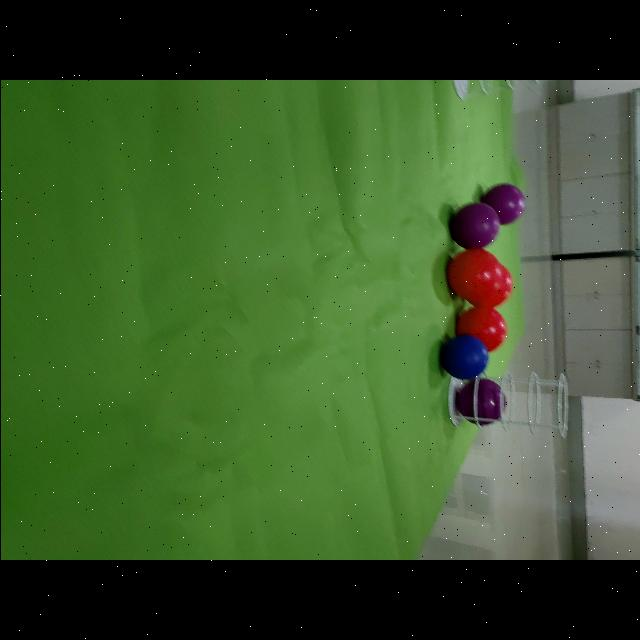B: (438, 334, 488, 382)
P: (450, 199, 500, 251), (454, 380, 506, 430), (481, 184, 525, 226)
R: (446, 249, 499, 303), (450, 306, 508, 352), (462, 264, 514, 310)
S: (444, 370, 570, 444), (444, 80, 570, 104)
